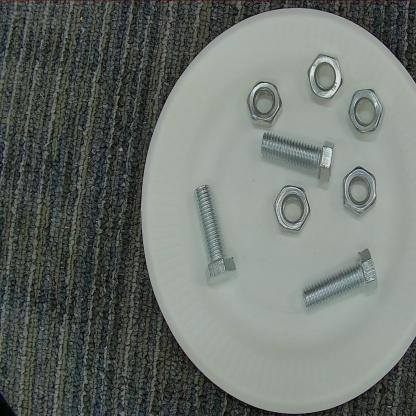FOD: (186, 178, 241, 293), (298, 244, 382, 316), (258, 129, 339, 188), (338, 163, 380, 223), (344, 84, 386, 141), (306, 51, 346, 110), (270, 180, 312, 235), (245, 78, 286, 131)
